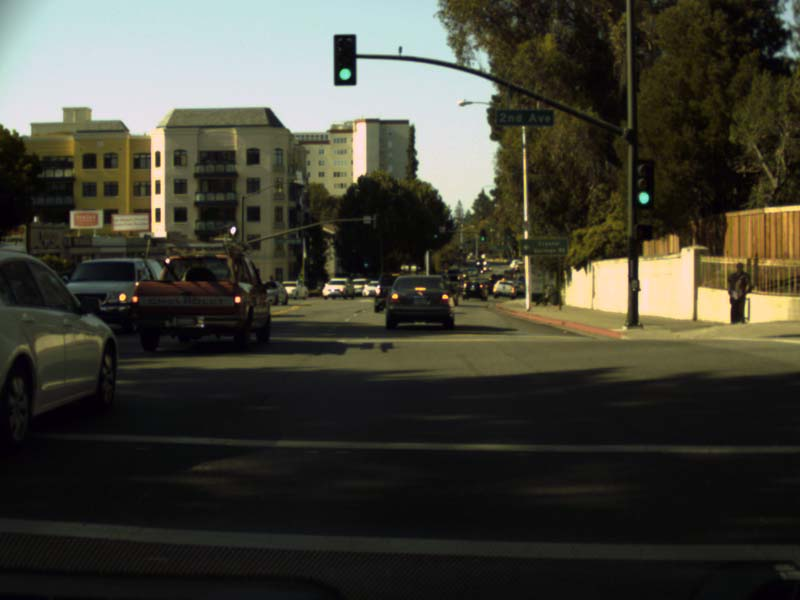Green: (334, 34, 356, 84), (634, 159, 653, 206), (504, 226, 511, 241), (362, 258, 369, 268), (480, 229, 485, 241), (432, 228, 437, 239)
